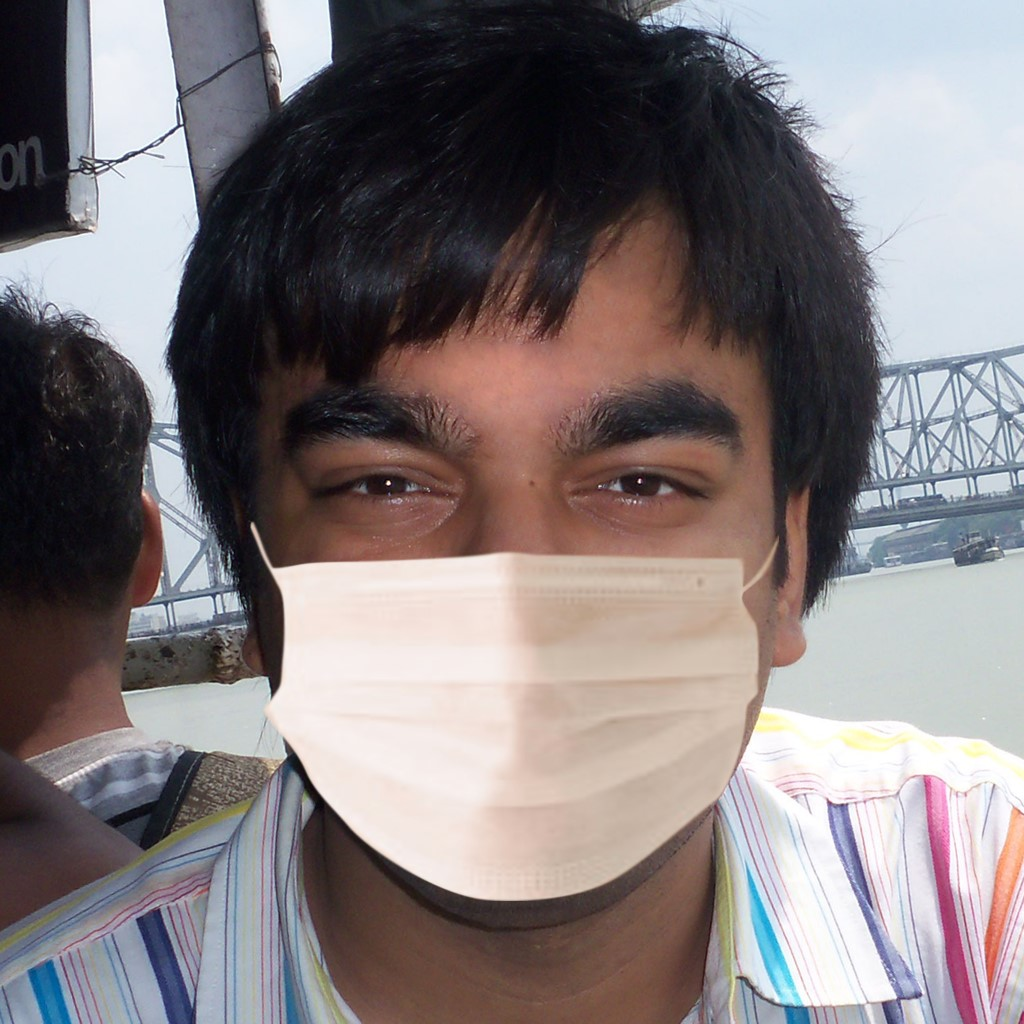con_mascara: (241, 166, 785, 911)
